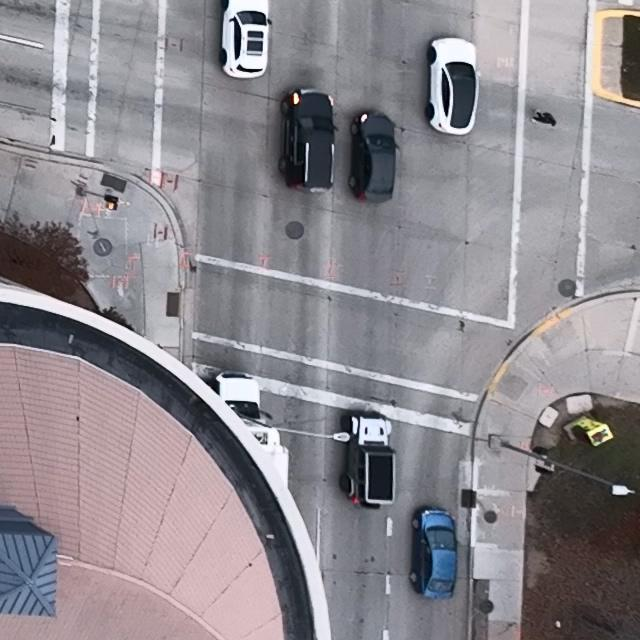car: (213, 371, 289, 492), (278, 88, 338, 193), (339, 410, 398, 509), (426, 37, 482, 136), (347, 110, 400, 203), (409, 507, 460, 599), (219, 0, 272, 78)
